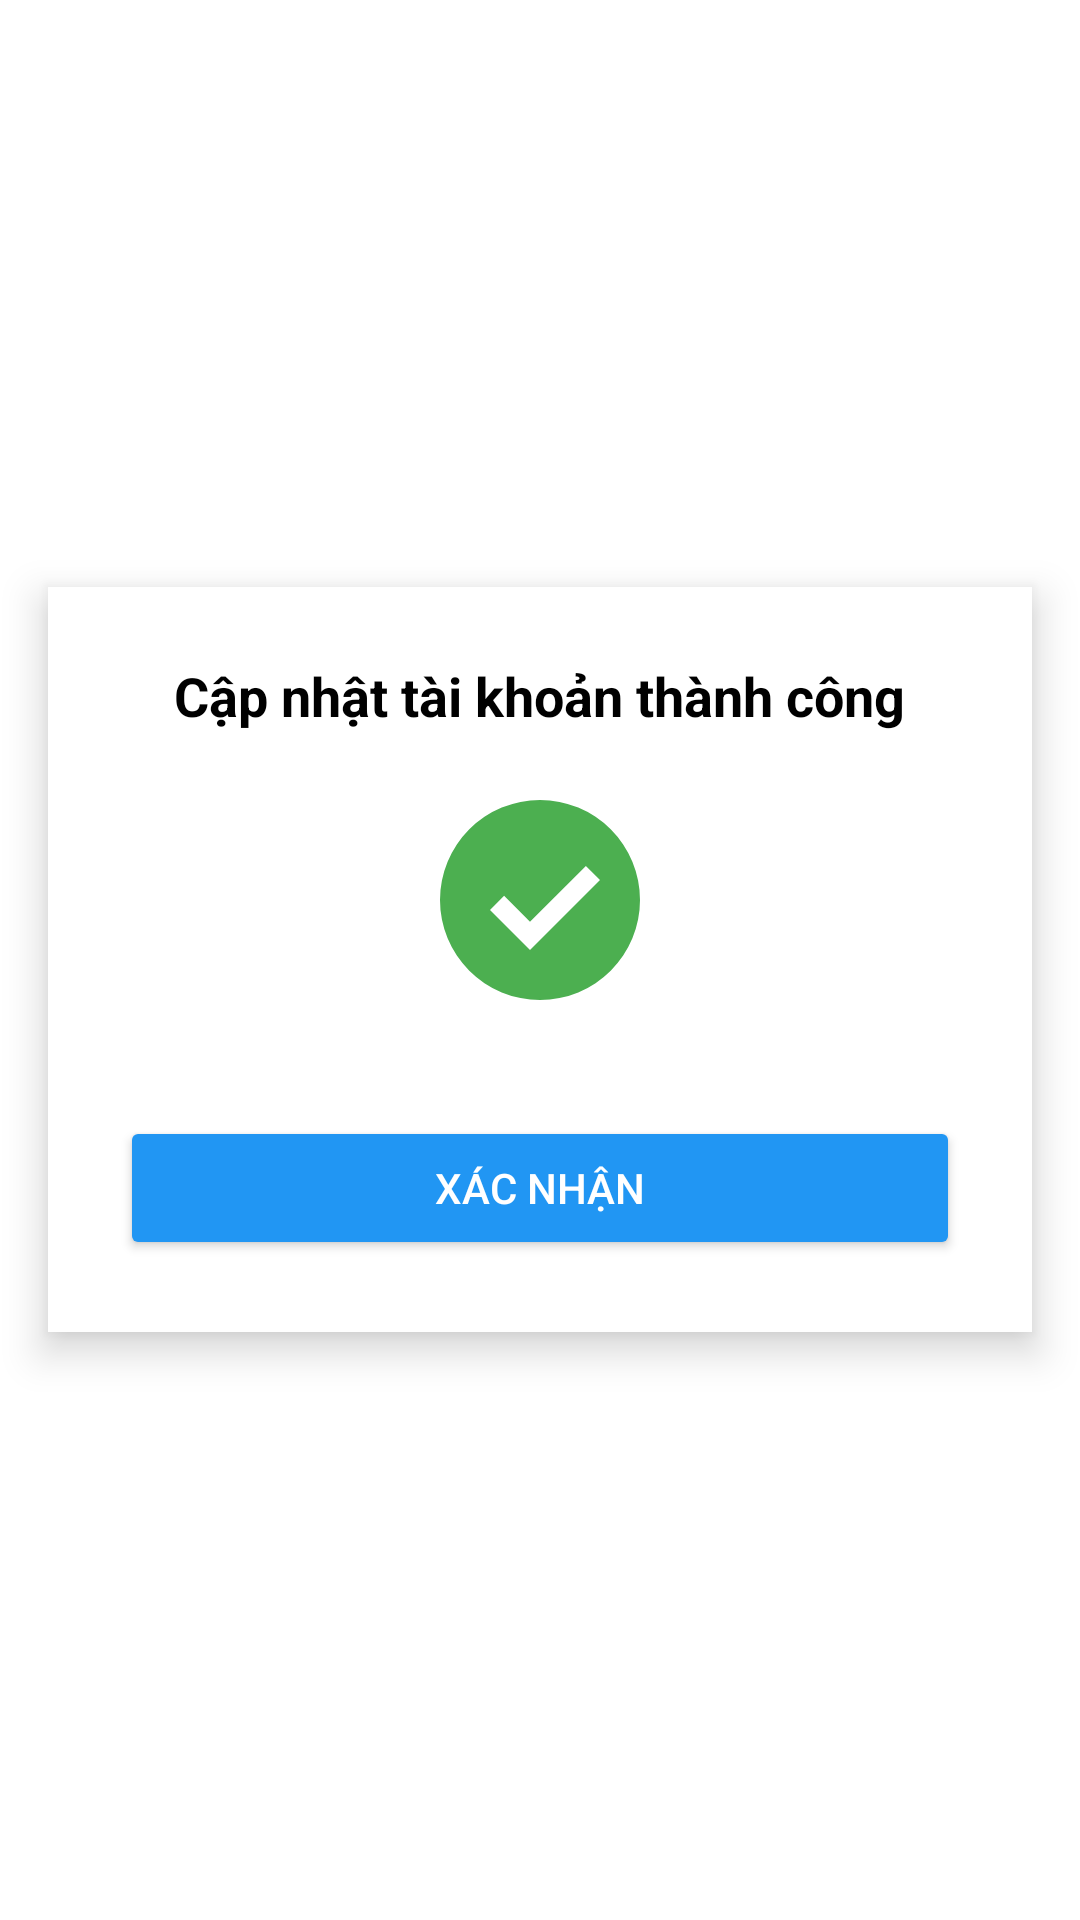

Icon click points for this 1080×1920 phone screenshot, format (x=x, y=y):
success: (x=540, y=900)
